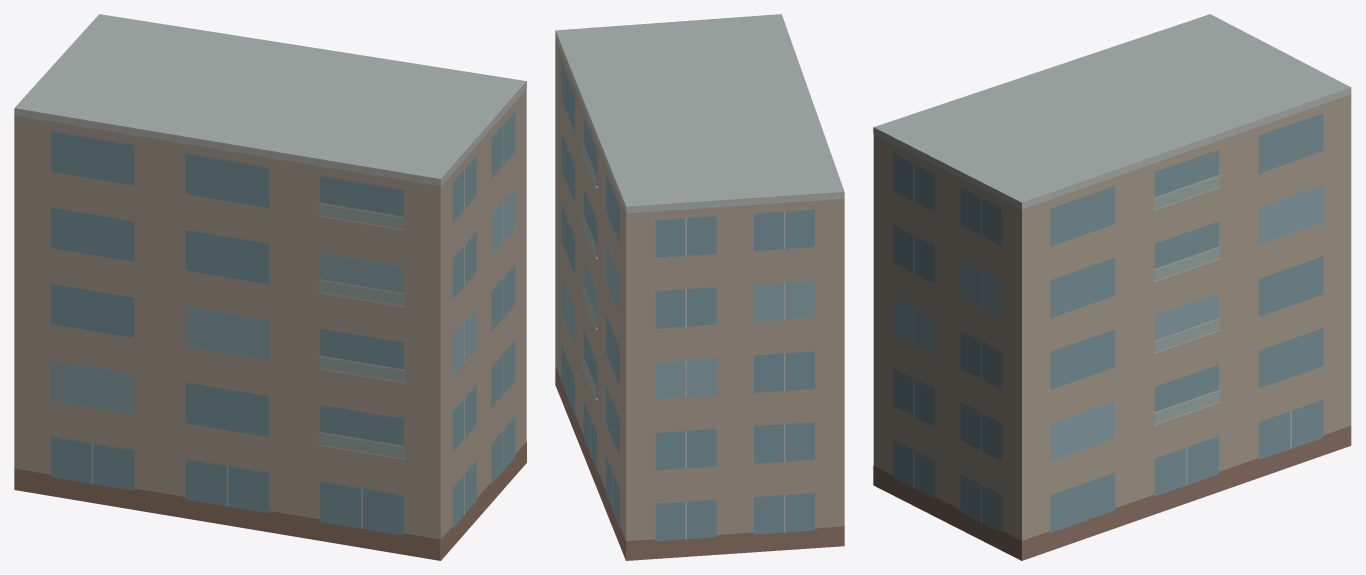
The model's file is survey-upis-33023696.glb.
3 renders of one model, left to right at view 1: azimuth 30°, elevation 25°; view 2: azimuth 150°, elevation 25°; view 3: azimuth 270°, elevation 25°, orthographic. The views are drawn at different scales.
Parts seen in each view (by area): view 1: survey-upis-33023696.tmp; view 2: survey-upis-33023696.tmp; view 3: survey-upis-33023696.tmp.
Boxes of the visible parts, bbox=[...] form: survey-upis-33023696.tmp: bbox=[14, 14, 526, 560]; survey-upis-33023696.tmp: bbox=[555, 14, 844, 560]; survey-upis-33023696.tmp: bbox=[873, 14, 1351, 560].
Bounding box in the file's own units: 14.13 × 12.5 × 15.12.
